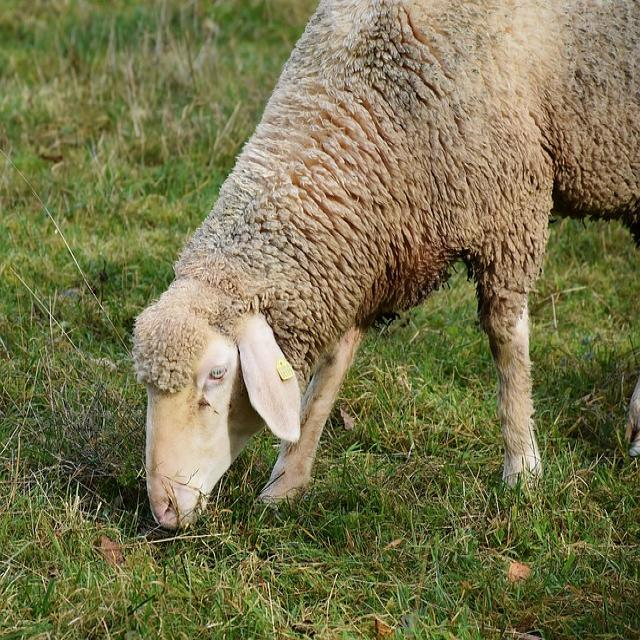goat: (132, 0, 640, 533)
